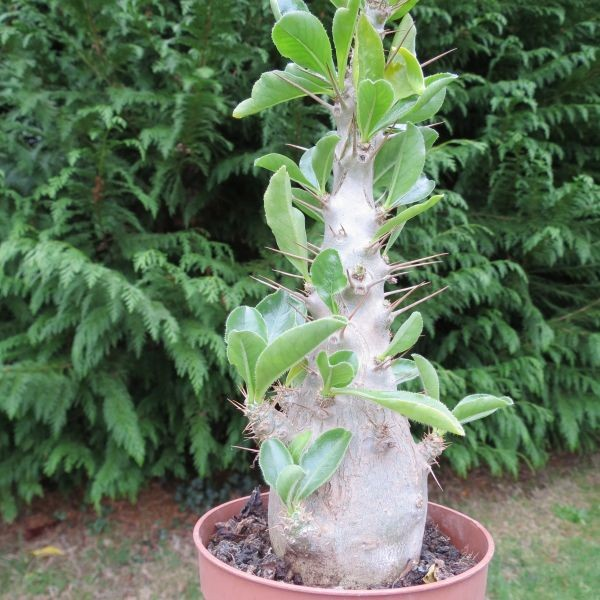Pachypodium saundersii: (191, 11, 526, 585)
